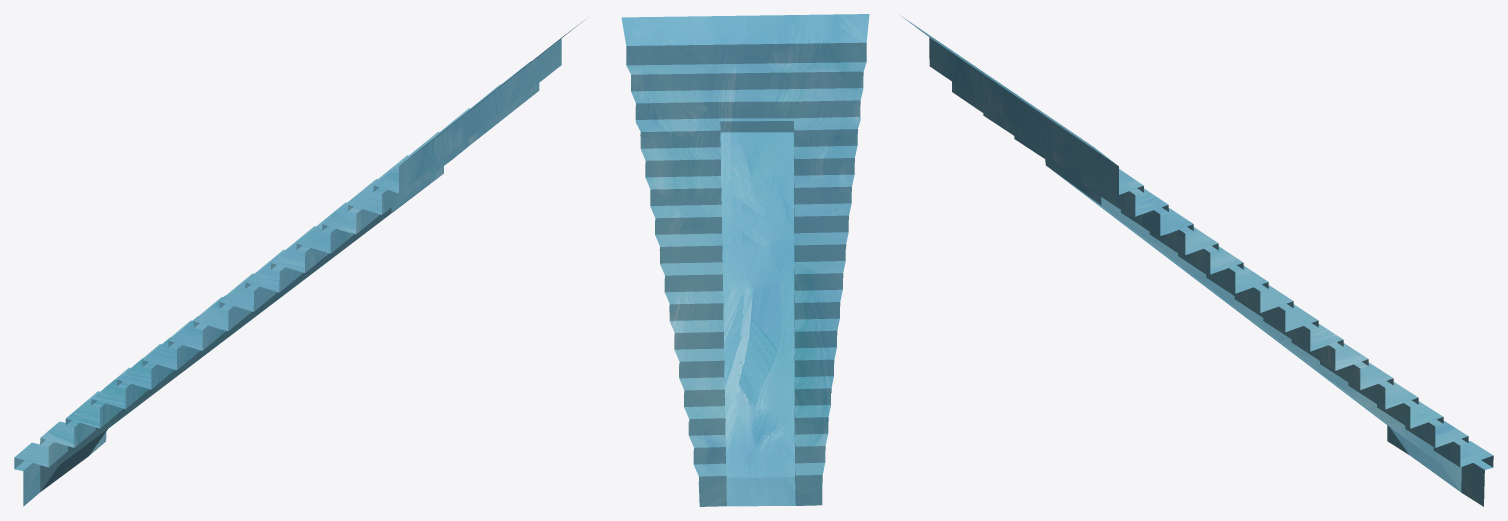
File: SM_Stairs_02.fbx
3 renders of one model, left to right at view 1: azimuth 30°, elevation 25°; view 2: azimuth 150°, elevation 25°; view 3: azimuth 270°, elevation 25°, orthographic. The views are drawn at different scales.
Parts seen in each view (by area): view 1: SM_Stairs_02; view 2: SM_Stairs_02; view 3: SM_Stairs_02.
Boxes of the visible parts, x1,y1,x2,y2 form: SM_Stairs_02: (14, 19, 585, 506); SM_Stairs_02: (621, 14, 869, 506); SM_Stairs_02: (900, 15, 1493, 506).
Size of the model in its own units: 3974 by 4308 by 4538.
